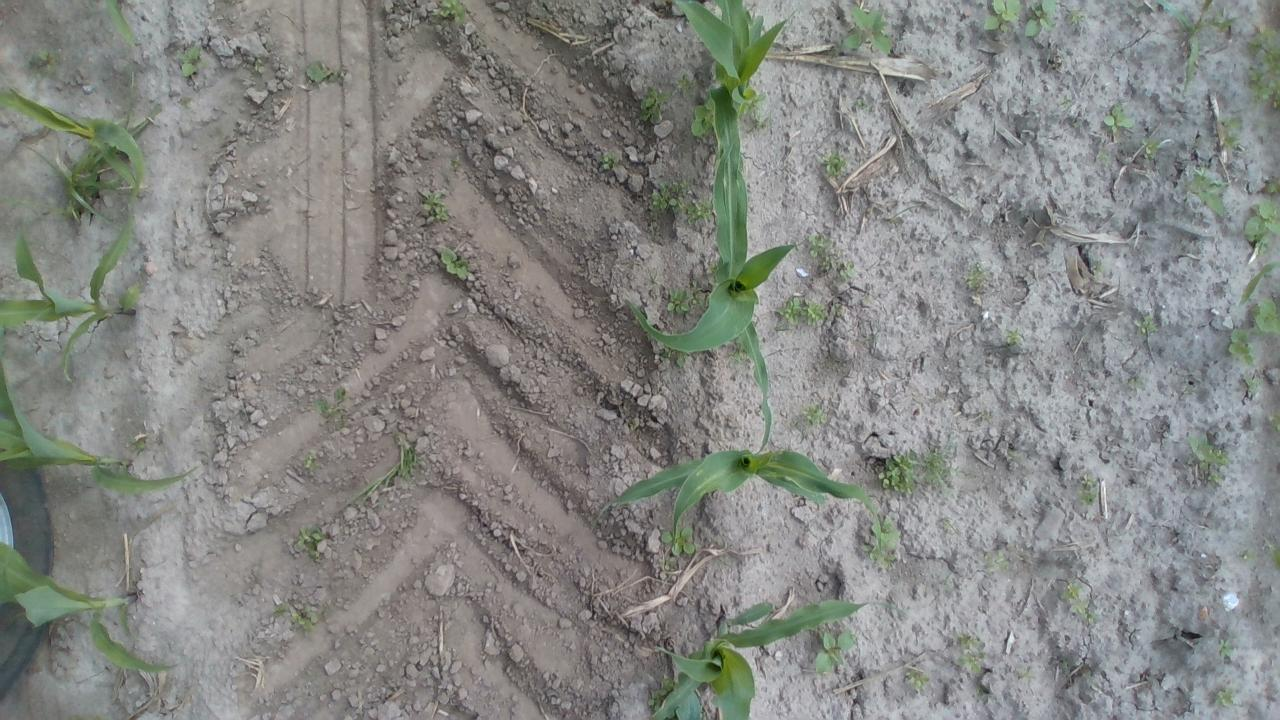Maize: (619, 142, 797, 455), (641, 598, 924, 720), (594, 448, 882, 550), (0, 363, 206, 494), (674, 0, 794, 223), (0, 202, 139, 384), (0, 540, 184, 676), (0, 76, 154, 198), (102, 0, 142, 52)
Weeds: (57, 144, 121, 224), (1161, 4, 1199, 93), (1247, 24, 1280, 107), (841, 4, 892, 52), (920, 442, 960, 500), (1188, 163, 1228, 217), (1243, 197, 1280, 251), (865, 514, 902, 568), (880, 449, 919, 494), (646, 176, 691, 214), (816, 629, 854, 674), (350, 469, 398, 503), (1186, 434, 1228, 470), (314, 386, 348, 428), (982, 0, 1024, 33), (637, 82, 670, 122), (24, 48, 63, 80), (1249, 298, 1280, 337), (294, 523, 328, 558), (420, 188, 450, 226), (1024, 0, 1056, 35), (1228, 326, 1254, 366), (664, 524, 696, 556), (1104, 101, 1136, 132), (648, 677, 676, 712), (306, 61, 344, 85), (691, 96, 713, 137), (440, 248, 470, 278), (177, 44, 206, 74), (292, 601, 318, 634), (683, 198, 713, 226), (1218, 111, 1240, 149), (820, 148, 849, 175), (438, 0, 468, 26), (397, 441, 418, 478), (801, 298, 828, 326), (801, 402, 830, 428), (954, 652, 985, 676), (666, 287, 690, 315), (778, 296, 801, 325), (906, 668, 932, 692), (1216, 683, 1240, 709), (982, 550, 1008, 573), (729, 336, 750, 364), (1078, 473, 1096, 505), (1140, 136, 1162, 162), (740, 86, 761, 113), (806, 232, 829, 256), (1212, 10, 1234, 34), (1134, 315, 1158, 337), (1194, 0, 1212, 28), (672, 71, 698, 90), (968, 262, 986, 289), (834, 261, 856, 281), (749, 112, 770, 132), (300, 452, 320, 473), (127, 434, 148, 454), (688, 282, 704, 308), (1002, 326, 1022, 346), (705, 262, 721, 287), (1241, 372, 1260, 393), (600, 152, 622, 170), (1060, 582, 1082, 598), (1091, 260, 1108, 280), (1267, 409, 1280, 435), (954, 634, 978, 648), (1268, 542, 1280, 570), (1068, 598, 1088, 614), (268, 604, 289, 619), (1218, 637, 1232, 659), (1016, 668, 1038, 682), (819, 252, 832, 274), (676, 349, 690, 368), (1238, 548, 1257, 562), (1126, 376, 1145, 390), (1060, 94, 1077, 109), (1068, 9, 1084, 23), (1265, 178, 1280, 192), (658, 345, 672, 360), (450, 156, 464, 170), (1096, 150, 1109, 165), (1086, 611, 1102, 623), (942, 516, 955, 530), (1209, 471, 1222, 485), (856, 98, 869, 111), (827, 356, 842, 366), (254, 58, 264, 73), (664, 708, 676, 720), (628, 419, 640, 430), (1254, 118, 1267, 128), (832, 304, 842, 316), (975, 686, 986, 696), (830, 45, 840, 56), (1007, 452, 1019, 461), (699, 706, 706, 720), (983, 410, 992, 420), (890, 216, 899, 226), (1061, 658, 1070, 667), (1194, 138, 1202, 146)
